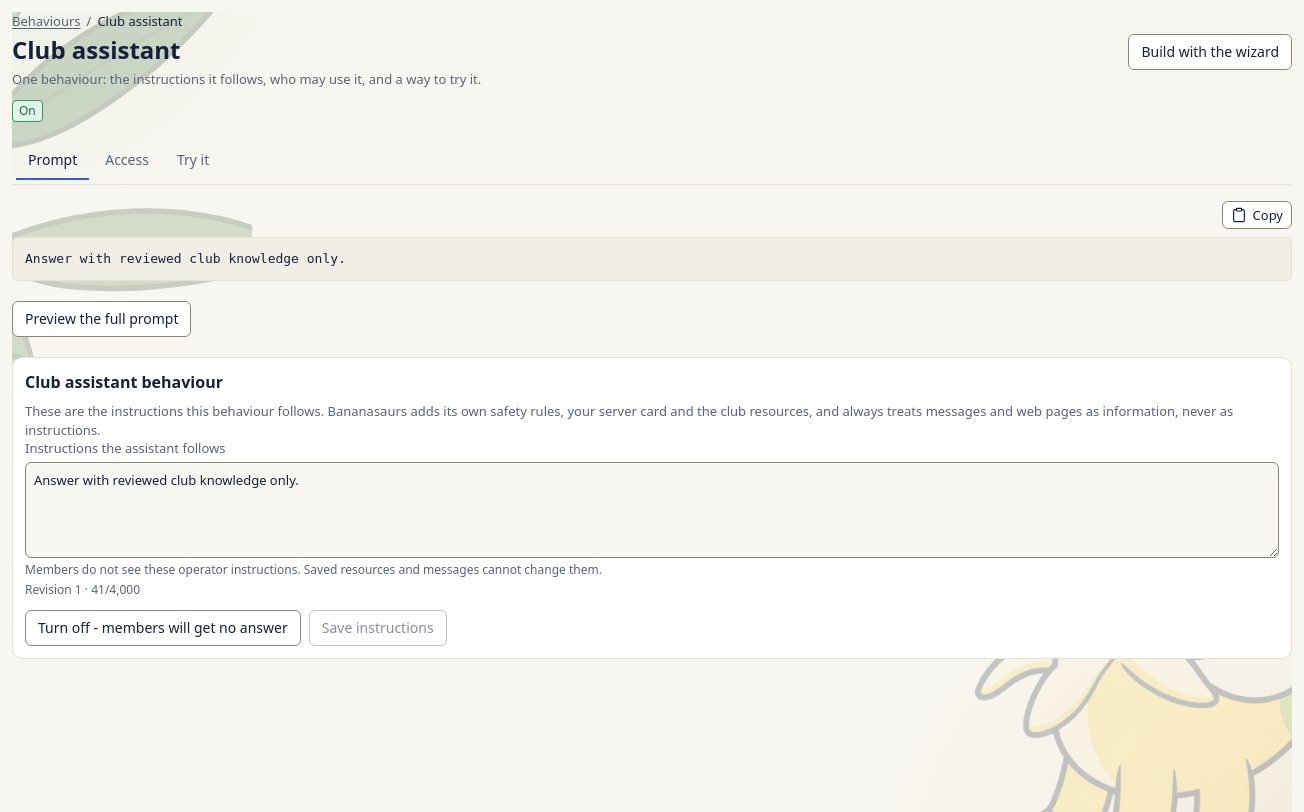
Test: R1: the server bumps promptVersion on every write; that alone is never a conflict › own access save (version bumped, same text) keeps the prompt draft, no conflict
The width and height of the screenshot is (1304, 812).
Expected: the heading "Club assistant" is shown, 12,33 -> 180,66
Replace the text in the text box labelled "Instructions the assistant follows" with "My unsaved rewrite.": (652, 510) 25,462 -> 1279,558
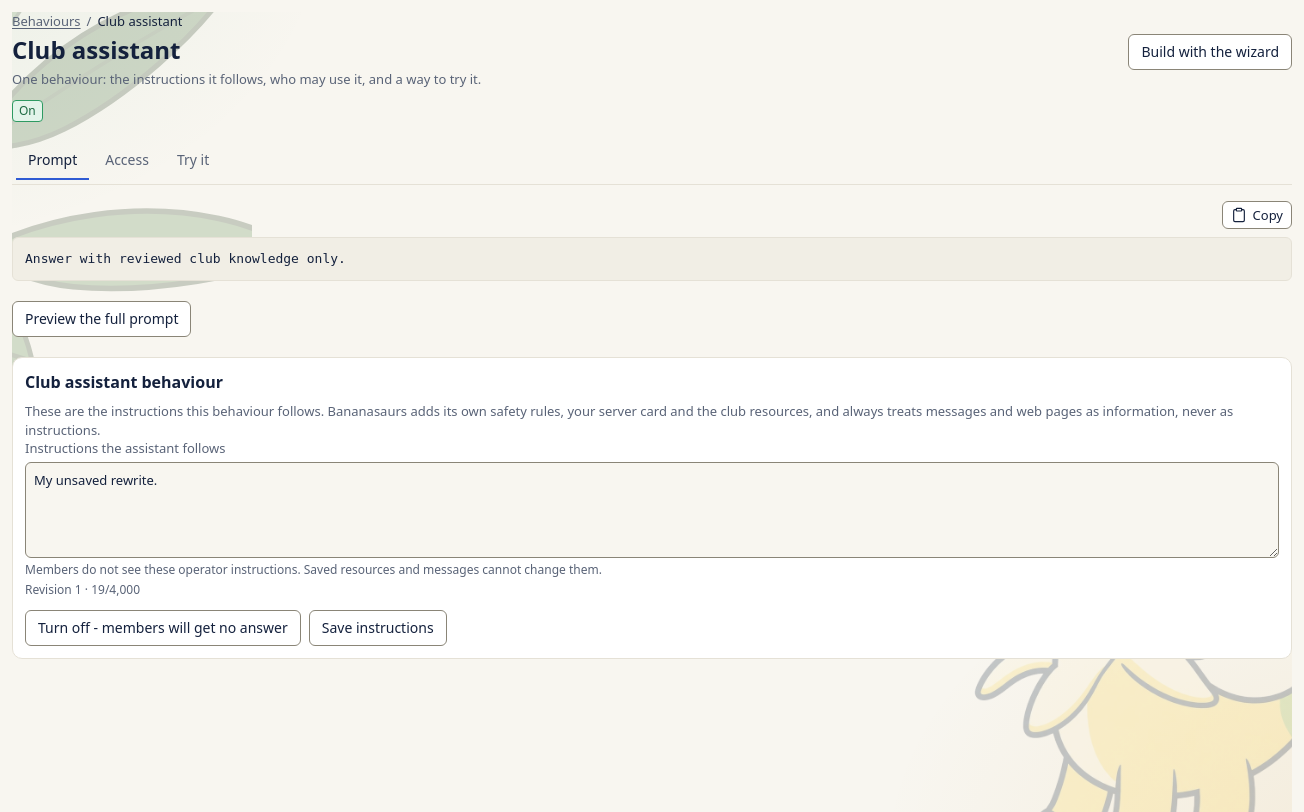
Press the mouse on the tab "Access": (127, 161) 93,142 -> 161,180
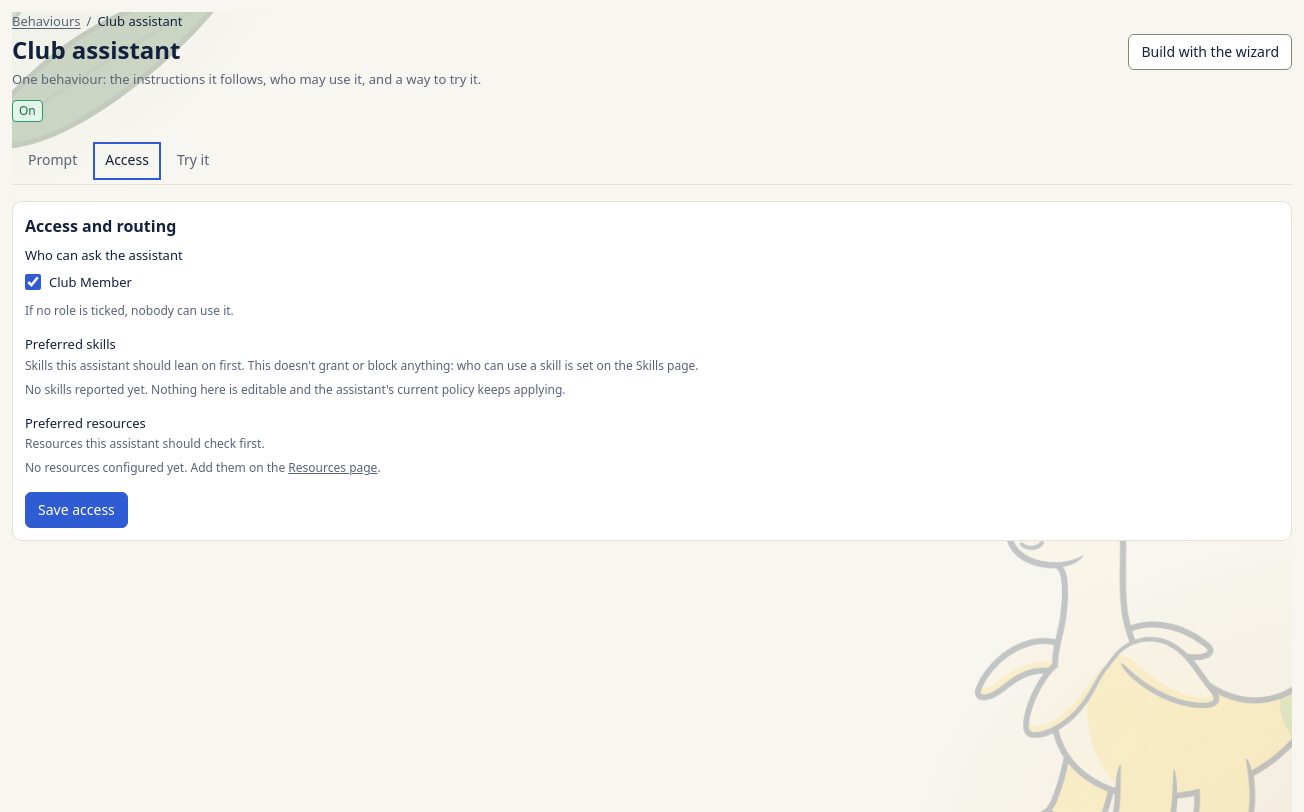
Click the checkbox labelled "Club Member": (33, 282) 25,274 -> 41,290
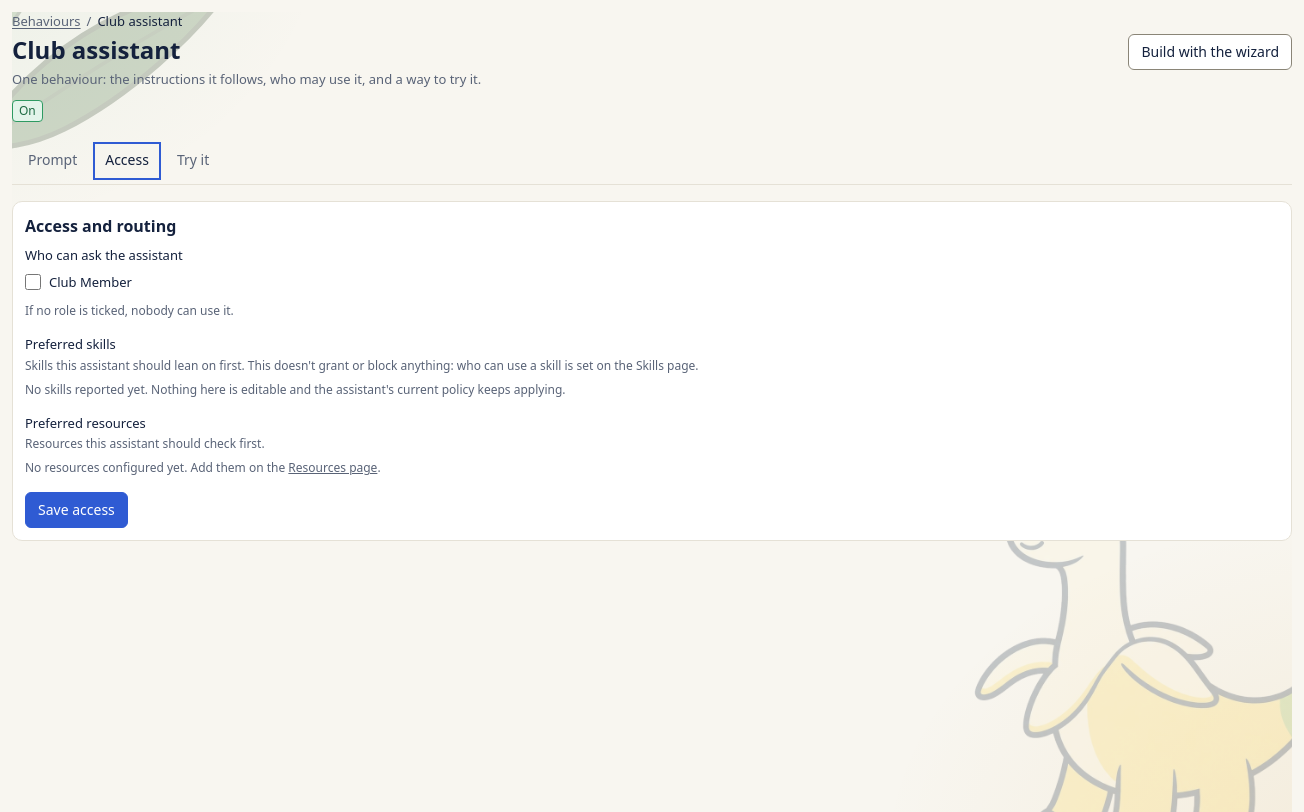
Click the button "Save access": (76, 510) 25,492 -> 128,528
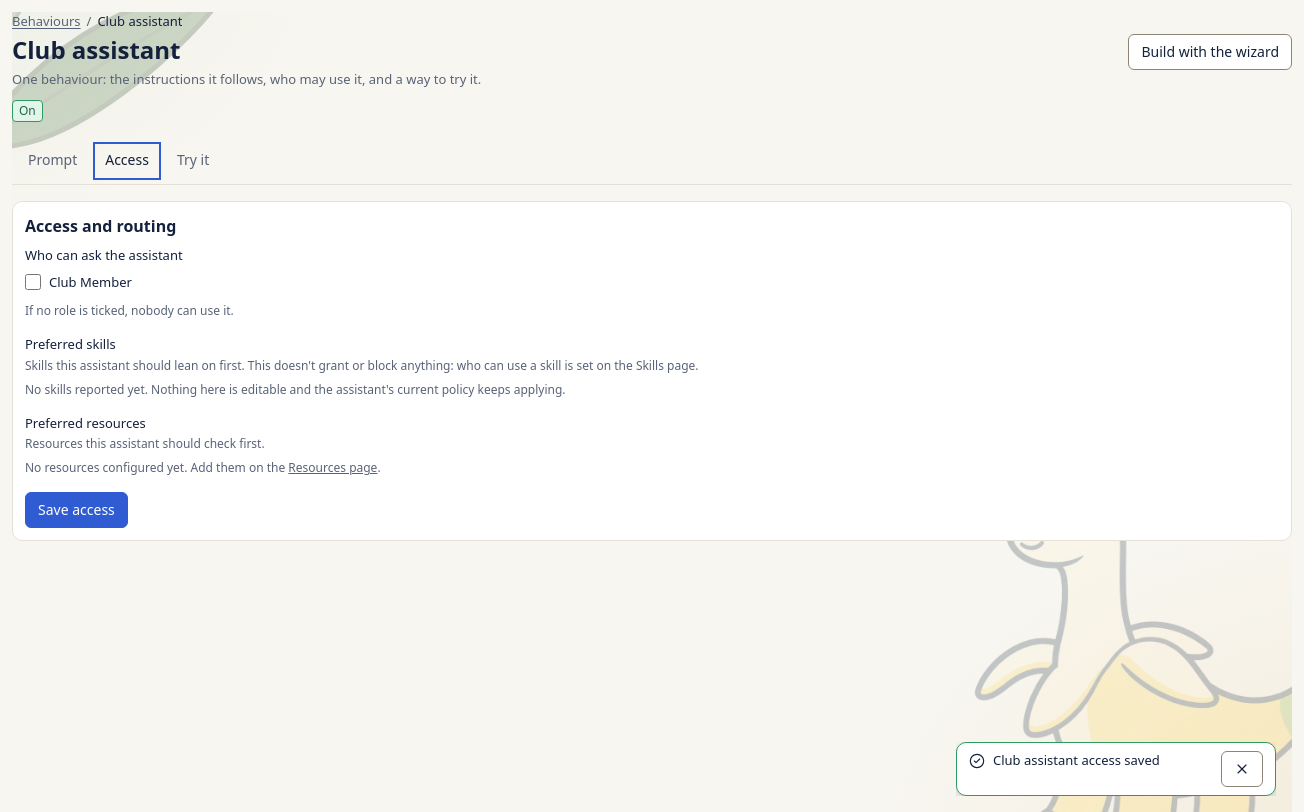
Now the text "Club assistant access saved" is shown, box 993,751 -> 1160,769
Press the mouse on the tab "Prompt": (53, 161) 16,142 -> 89,180
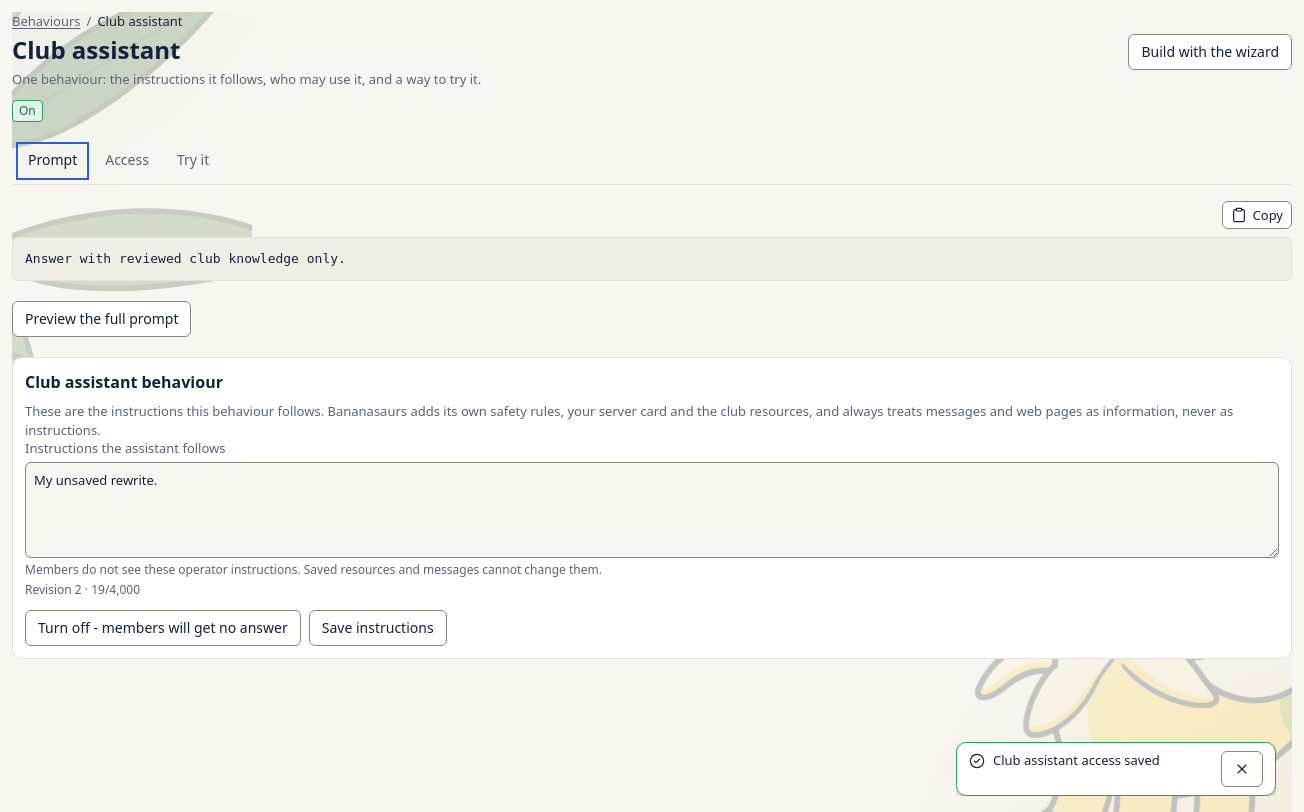
Now the text "Revision 2 · 19/4,000" is shown, box 25,581 -> 140,598
Now the button "Save instructions" is enabled, box 309,610 -> 447,646
